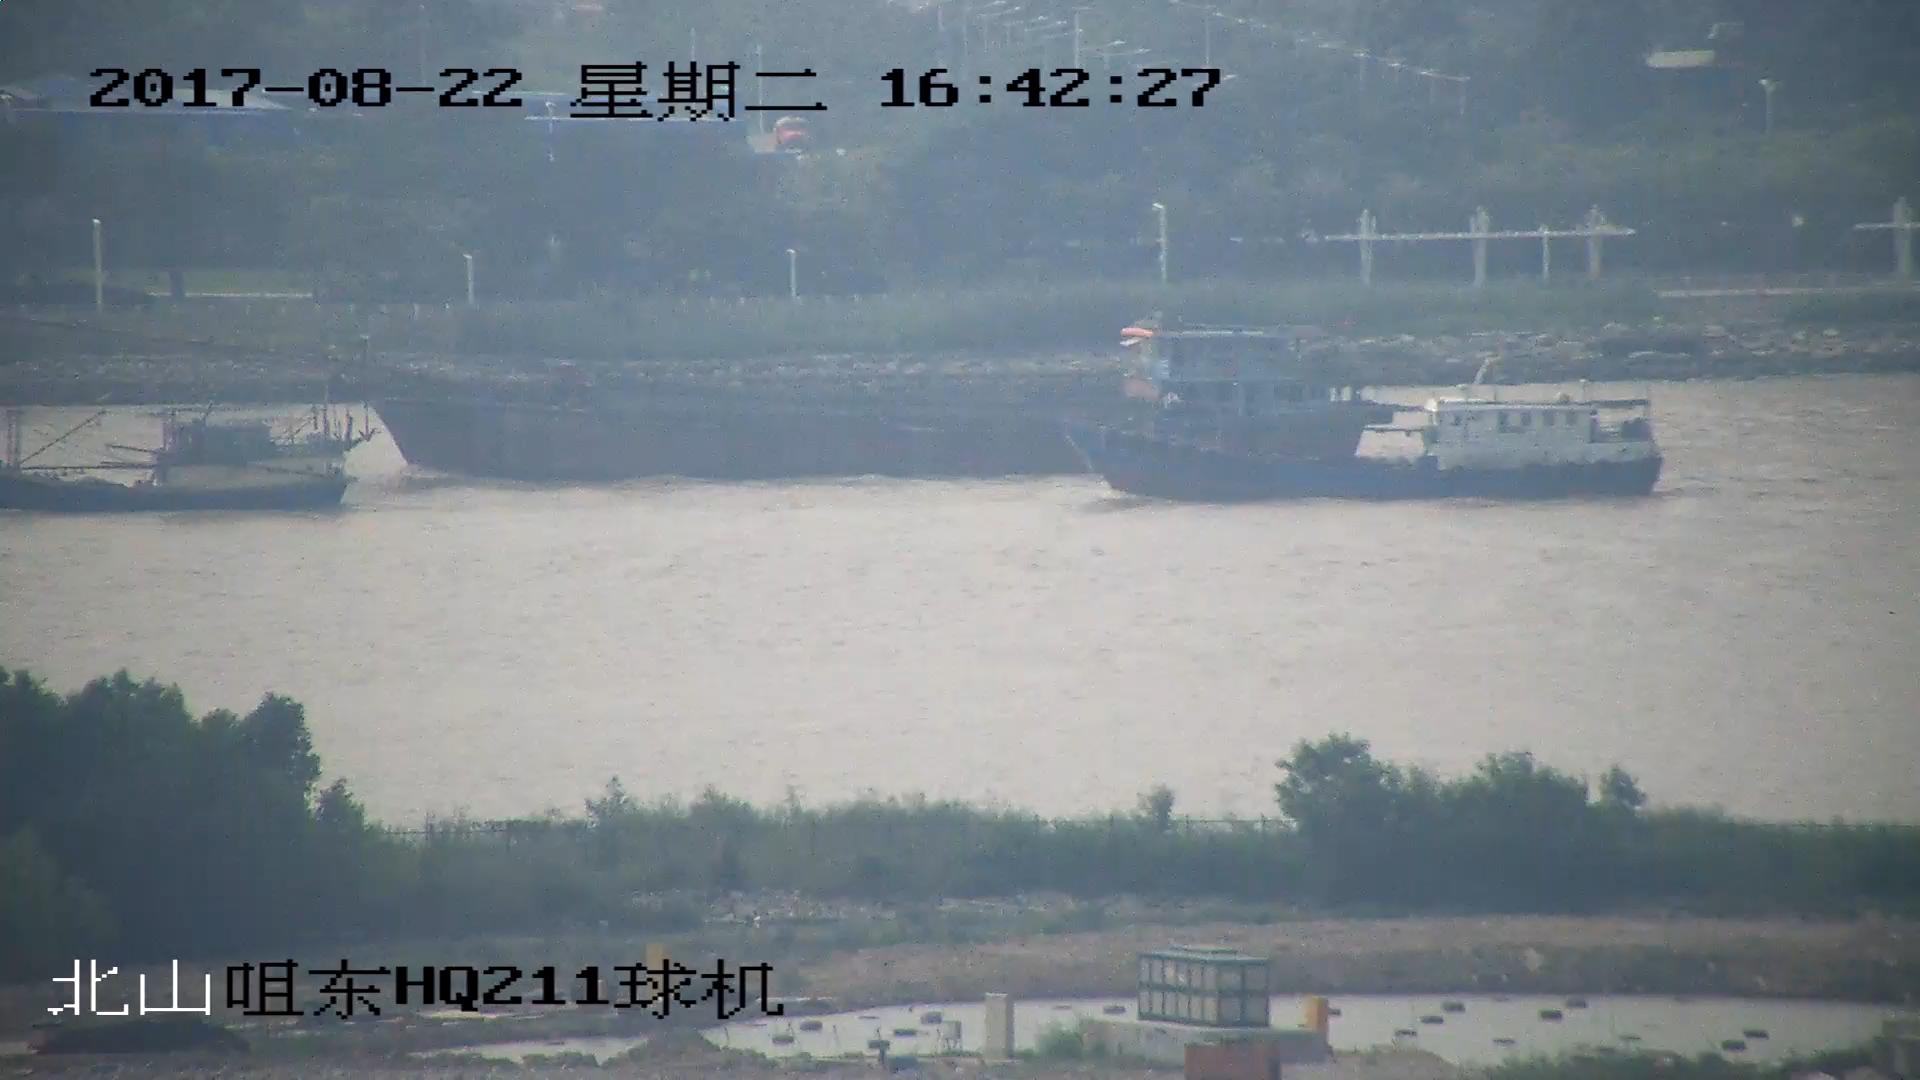bulk cargo carrier: (16, 310, 1399, 476)
fishing boat: (1074, 378, 1661, 505), (1, 407, 372, 518)
